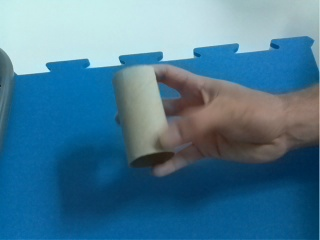rollo papel: (110, 64, 175, 170)
